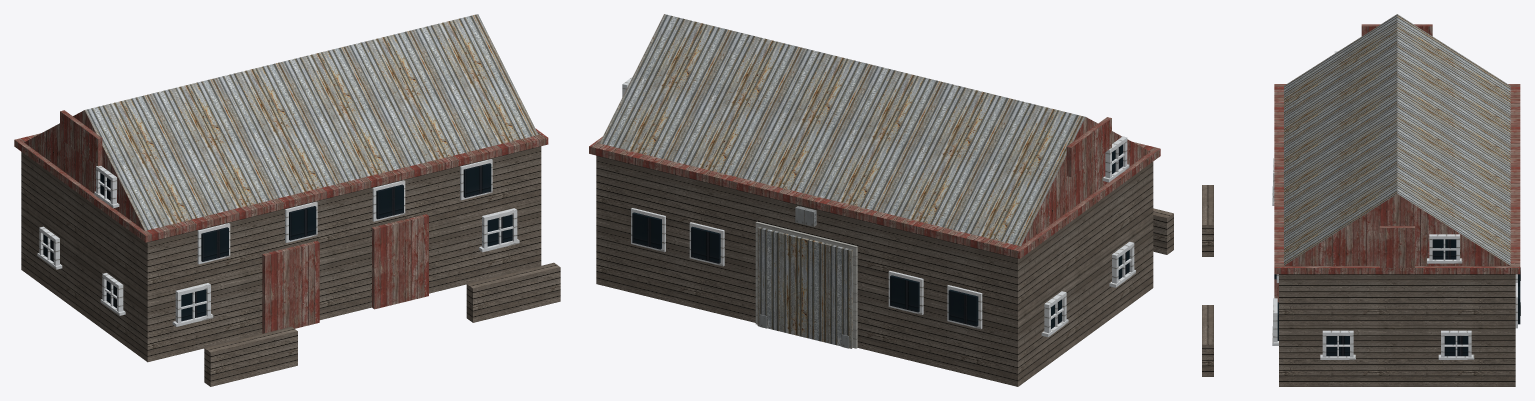
File: tobacco-barn_lod0.gltf
3 views of the same model, side by side, from view 1: azimuth 30°, elevation 25°; view 2: azimuth 150°, elevation 25°; view 3: azimuth 270°, elevation 25° (orthographic). The views are drawn at different scales.
Parts seen in each view (by area): view 1: tobacco-barn_roof, tobacco-barn_walls, tobacco-barn__eave_band, tobacco-barn_fen_20-white-clapboard_0, tobacco-barn_fen_07-glass-curtain-blue_1_t, tobacco-barn__sliding_door_b, tobacco-barn__sliding_door_a, tobacco-barn__drying_rack_b, tobacco-barn__drying_rack_a, tobacco-barn_gable_ends, tobacco-barn__vent_slat; view 2: tobacco-barn_roof, tobacco-barn_walls, tobacco-barn_fen_21-corrugated-steel_3, tobacco-barn__eave_band, tobacco-barn_fen_07-glass-curtain-blue_1_t, tobacco-barn_fen_20-white-clapboard_0, tobacco-barn_gable_ends, tobacco-barn__vent_slat, tobacco-barn_fen_15-concrete-boardformed_2, tobacco-barn__drying_rack_a, tobacco-barn_fen_14-steel-panel_4; view 3: tobacco-barn_roof, tobacco-barn_walls, tobacco-barn_gable_ends, tobacco-barn__eave_band, tobacco-barn_fen_20-white-clapboard_0, tobacco-barn_fen_07-glass-curtain-blue_1_t, tobacco-barn__loft_door, tobacco-barn__drying_rack_a, tobacco-barn__drying_rack_b.
Boxes of the visible parts, x1,y1,x2,y2 form: tobacco-barn_roof: (84,14,538,230); tobacco-barn_walls: (21,146,541,362); tobacco-barn__eave_band: (14,128,548,242); tobacco-barn_fen_20-white-clapboard_0: (37,159,519,326); tobacco-barn_fen_07-glass-curtain-blue_1_t: (43,163,512,321); tobacco-barn__sliding_door_b: (372,214,428,309); tobacco-barn__sliding_door_a: (262,241,319,333); tobacco-barn__drying_rack_b: (466,262,560,322); tobacco-barn__drying_rack_a: (204,326,297,386); tobacco-barn_gable_ends: (24,110,144,230); tobacco-barn__vent_slat: (60,110,102,166); tobacco-barn_roof: (599,14,1085,246); tobacco-barn_walls: (596,155,1153,386); tobacco-barn_fen_21-corrugated-steel_3: (757,227,852,348); tobacco-barn__eave_band: (589,136,1160,258); tobacco-barn_fen_07-glass-curtain-blue_1_t: (632,144,1129,328); tobacco-barn_fen_20-white-clapboard_0: (622,77,1135,337); tobacco-barn_gable_ends: (1021,117,1150,245); tobacco-barn__vent_slat: (1066,117,1111,176); tobacco-barn_fen_15-concrete-boardformed_2: (755,221,857,348); tobacco-barn__drying_rack_a: (1153,208,1173,254); tobacco-barn_fen_14-steel-panel_4: (759,206,848,348); tobacco-barn_roof: (1284,14,1510,265); tobacco-barn_walls: (1279,274,1515,386); tobacco-barn_gable_ends: (1284,194,1510,265); tobacco-barn__eave_band: (1274,84,1520,274); tobacco-barn_fen_20-white-clapboard_0: (1272,51,1517,359); tobacco-barn_fen_07-glass-curtain-blue_1_t: (1274,239,1520,356); tobacco-barn__loft_door: (1379,226,1414,270); tobacco-barn__drying_rack_a: (1202,185,1213,256); tobacco-barn__drying_rack_b: (1202,305,1213,376).
Size of the model in its own units: 18.55 by 9 by 13.47.
